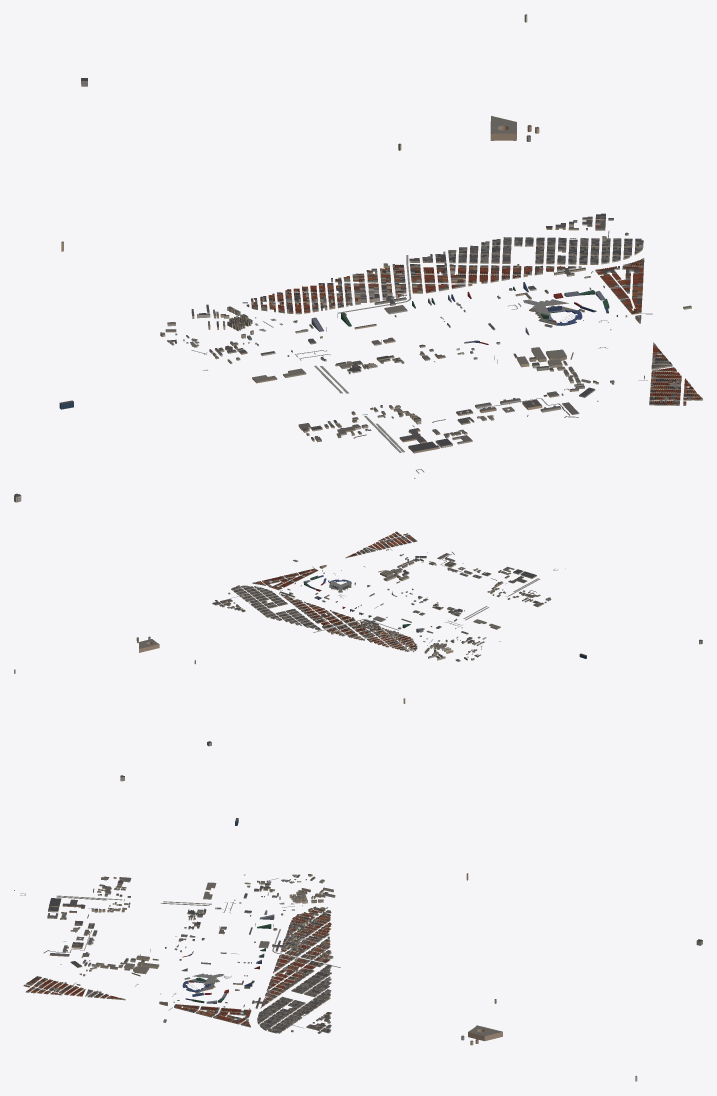
The model's file is scenery.glb.
3 renders of one model, top to bottom at view 1: azimuth 30°, elevation 25°; view 2: azimuth 150°, elevation 25°; view 3: azimuth 270°, elevation 25°, orthographic. The views are drawn at different scales.
Visible parts, largest first — view 1: chunk_17_13, chunk_14_13, chunk_16_13, chunk_17_14, chunk_15_12, chunk_16_17, chunk_16_14, chunk_16_12, chunk_15_13, chunk_14_12, chunk_12_16, chunk_13_12 (+3 smaller); view 2: chunk_17_13, chunk_14_13, chunk_16_13, chunk_14_12, chunk_15_12, chunk_17_14, chunk_16_12, chunk_15_13, chunk_16_17; view 3: chunk_17_13, chunk_16_13, chunk_17_14, chunk_14_12, chunk_15_12, chunk_16_12, chunk_14_13, chunk_16_17, chunk_15_13, chunk_16_14, chunk_13_12, chunk_12_16.
Part boxes in pixels (box(x1,y1,x2,y2)): chunk_17_13: box(535, 238, 628, 278); chunk_14_13: box(306, 286, 411, 329); chunk_16_13: box(450, 256, 542, 298); chunk_17_14: box(579, 266, 643, 313); chunk_15_12: box(358, 255, 447, 295); chunk_16_17: box(649, 373, 702, 405); chunk_16_14: box(508, 289, 596, 327); chunk_16_12: box(427, 239, 511, 269); chunk_15_13: box(381, 271, 471, 308); chunk_14_12: box(287, 273, 373, 304); chunk_12_16: box(298, 416, 404, 452); chunk_13_12: box(227, 290, 306, 321); chunk_17_13: box(243, 584, 295, 607); chunk_14_13: box(359, 616, 411, 638); chunk_16_13: box(288, 596, 337, 619); chunk_14_12: box(349, 628, 398, 647); chunk_15_12: box(311, 619, 359, 636); chunk_17_14: box(265, 570, 323, 587); chunk_16_12: box(270, 610, 318, 627); chunk_15_13: box(321, 606, 371, 628); chunk_16_17: box(374, 531, 417, 547); chunk_17_13: box(242, 995, 302, 1021); chunk_16_13: box(244, 970, 302, 997); chunk_17_14: box(185, 998, 246, 1021); chunk_14_12: box(299, 921, 331, 948); chunk_15_12: box(280, 946, 340, 972); chunk_16_12: box(300, 970, 331, 996); chunk_14_13: box(249, 922, 302, 953); chunk_16_17: box(23, 976, 73, 995); chunk_15_13: box(243, 945, 302, 972); chunk_16_14: box(182, 973, 243, 998); chunk_13_12: box(301, 897, 331, 924); chunk_12_16: box(56, 876, 131, 900).
Bounding box in the file's own units: 4974 × 54.11 × 4800.
